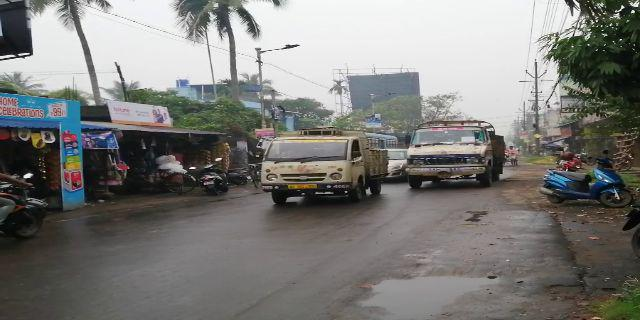Minitruck: (264, 135, 391, 207)
Motorbike: (540, 167, 634, 210)
Truck: (410, 122, 506, 183)
